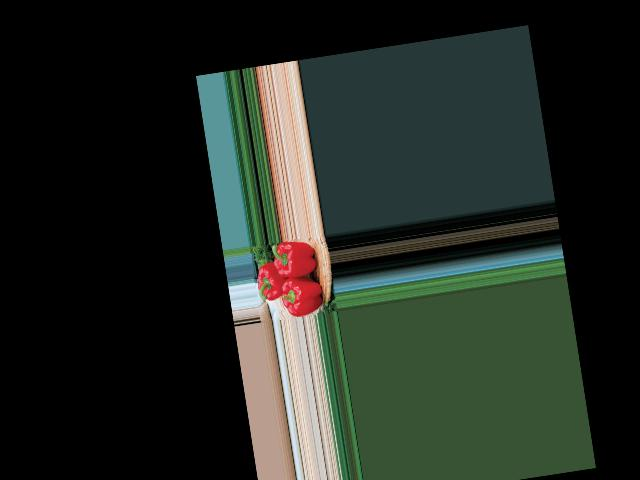bell_pepper: (270, 237, 324, 285)
